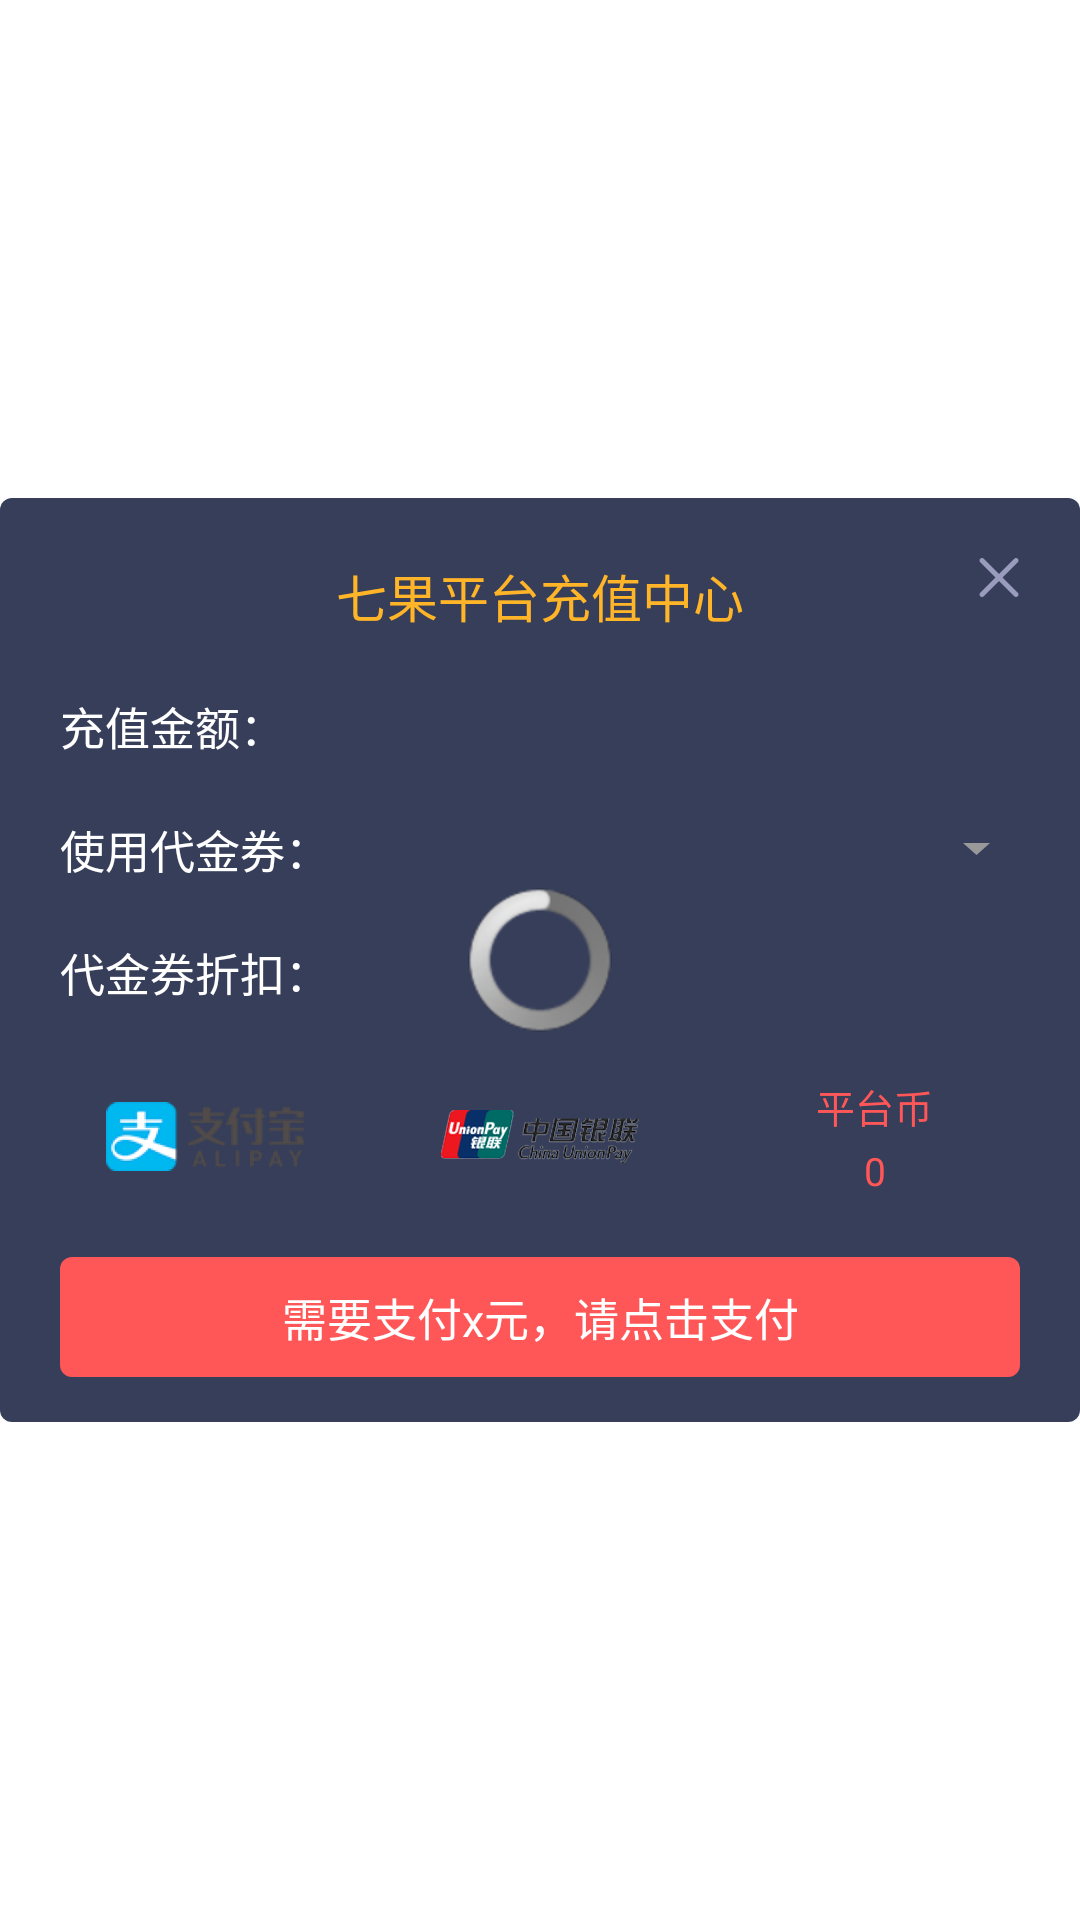

Icon click points for this 1080 × 1920 phone screenshot, format [x,y]:
close: [999,577]
